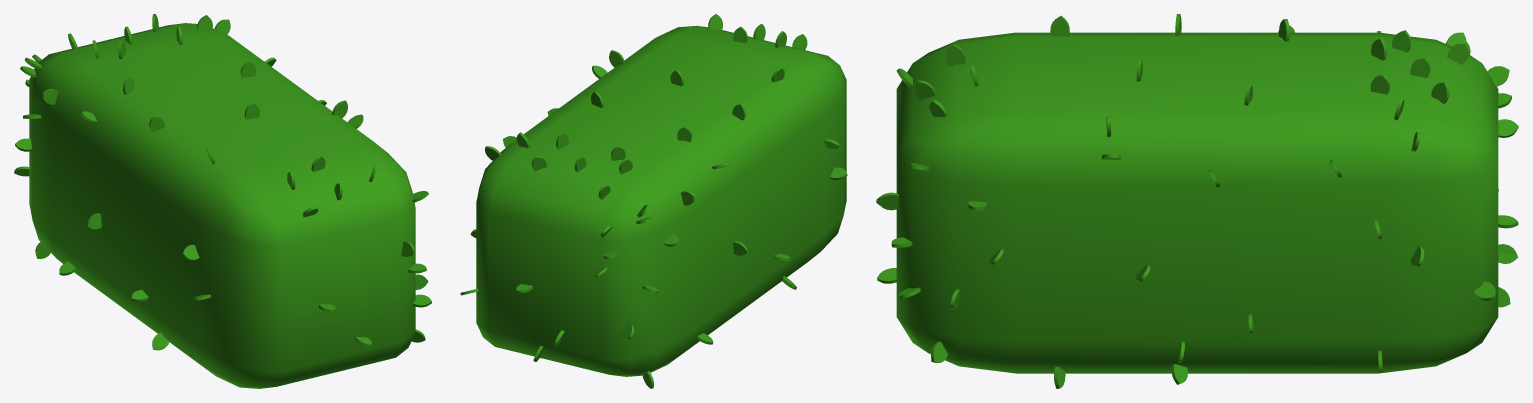
The model's file is Bush.fbx.
The picture shows the model from 3 angles, left to right: view 1: azimuth 30°, elevation 25°; view 2: azimuth 150°, elevation 25°; view 3: azimuth 270°, elevation 25°; orthographic projection. The views are drawn at different scales.
Parts seen in each view (by area): view 1: Circle.029; view 2: Circle.029; view 3: Circle.029.
Boxes of the visible parts, x1,y1,x2,y2 form: Circle.029: (14, 14, 431, 388); Circle.029: (460, 14, 847, 388); Circle.029: (876, 14, 1518, 388).
Size of the model in its own units: 127 by 250 by 119.
